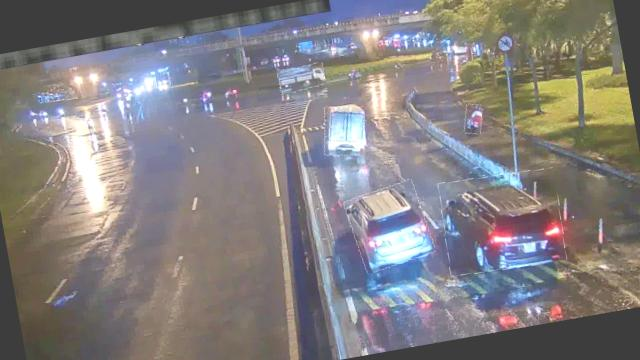Bike: (462, 102, 486, 135)
Bus: (320, 102, 370, 160)
Car: (436, 164, 568, 278), (344, 180, 434, 273)
Truck: (278, 62, 326, 94)
